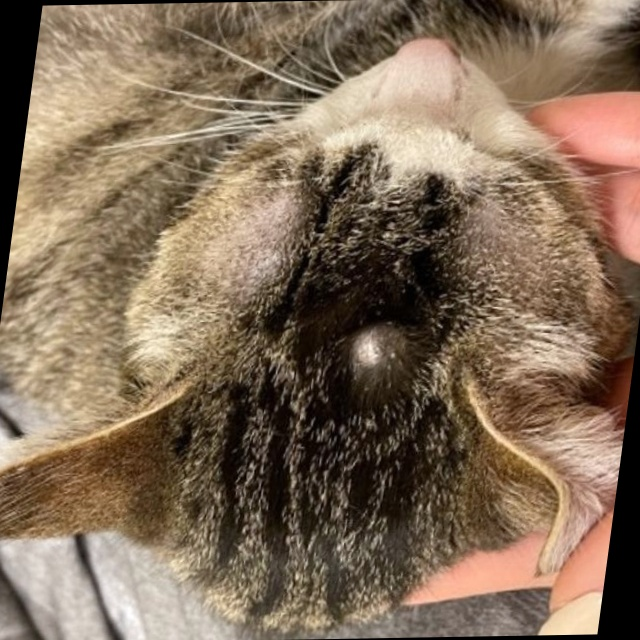lump_and_bump: (340, 321, 398, 370)
